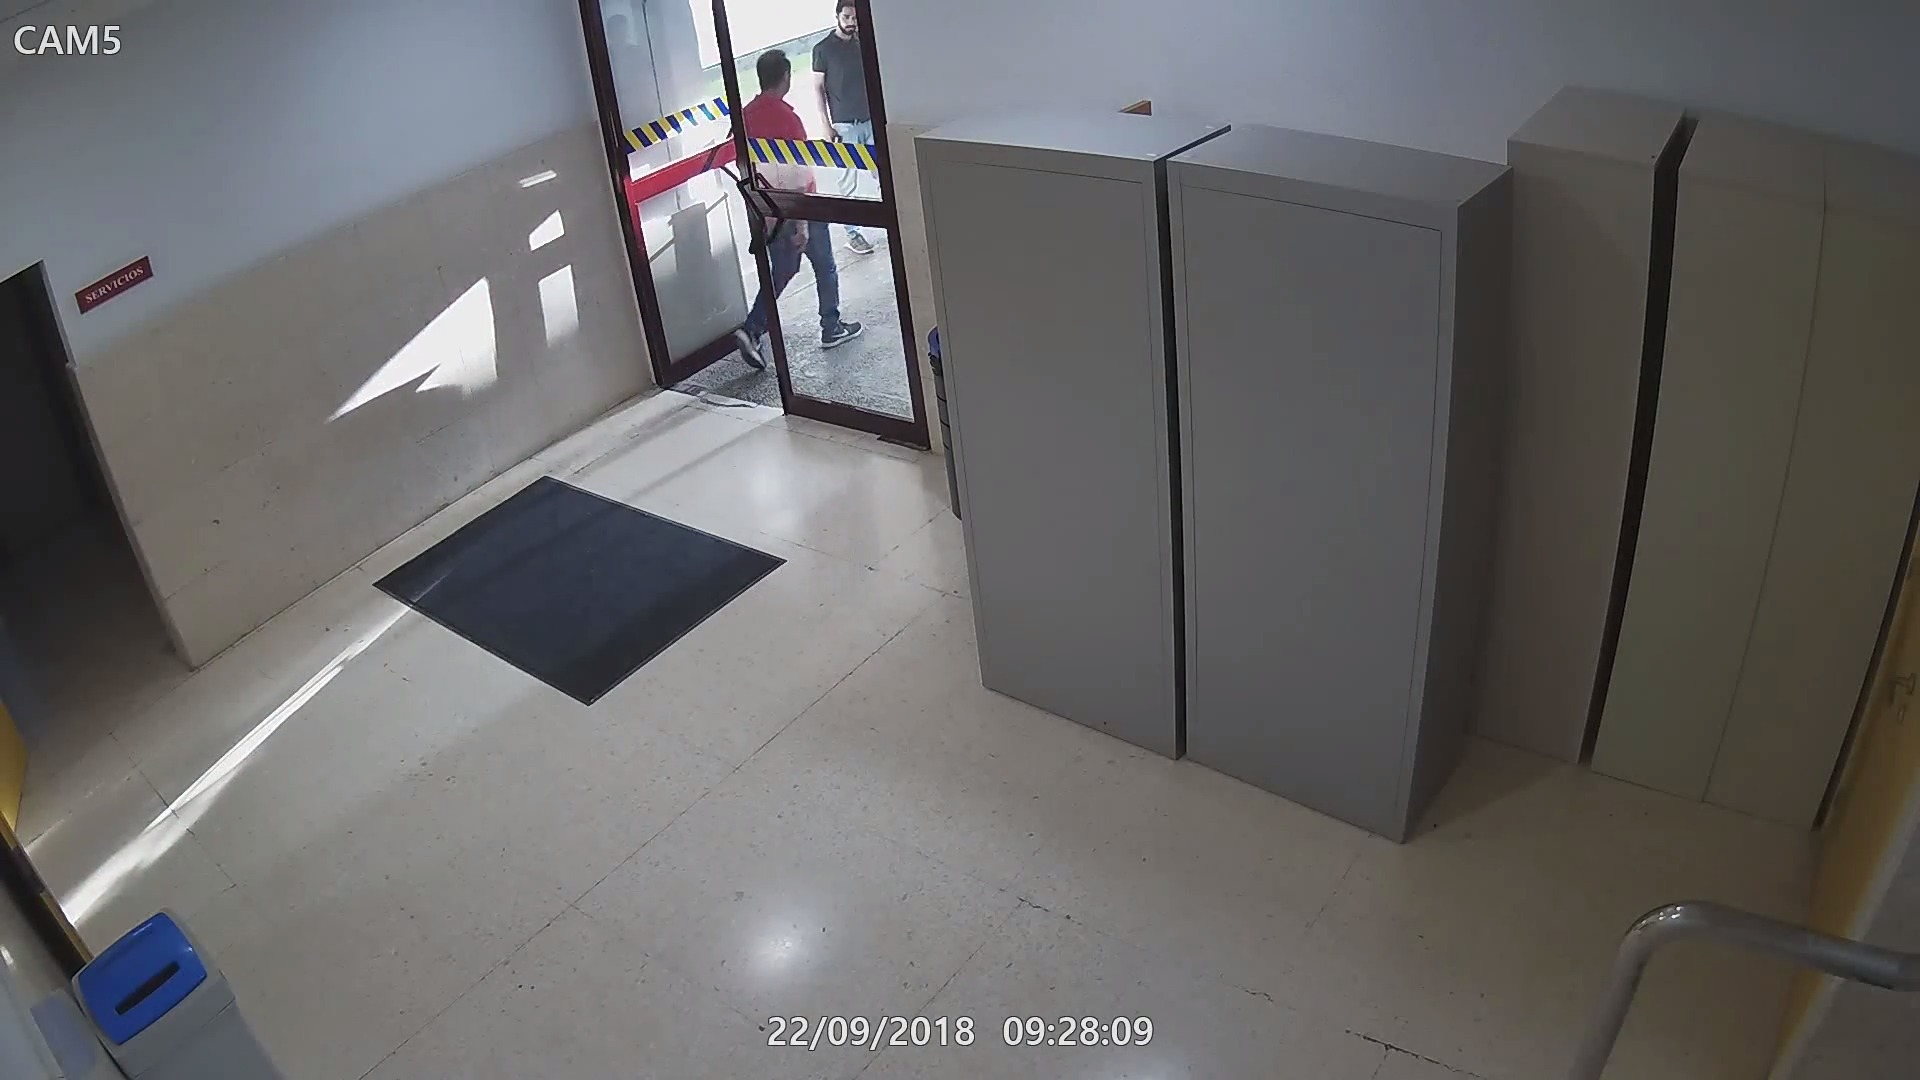Handgun: (786, 219, 814, 274)
